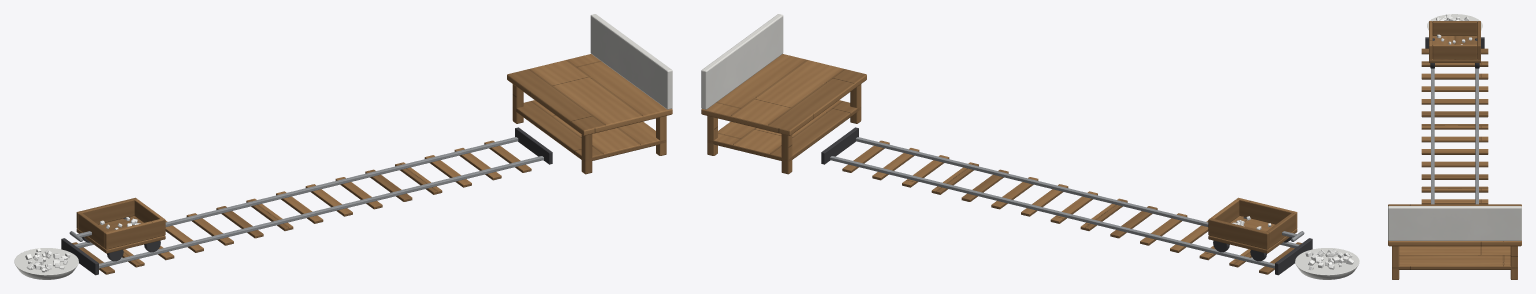
The model's file is station_sugar.fbx.
3 views of the same model, side by side, from view 1: azimuth 30°, elevation 25°; view 2: azimuth 150°, elevation 25°; view 3: azimuth 270°, elevation 25° (orthographic). The views are drawn at different scales.
Visible parts, largest first — view 1: 선반, 레일, 수레, 설탕; view 2: 선반, 레일, 수레, 설탕; view 3: 선반, 레일, 수레, 설탕.
Part boxes in pixels (x1,y1,x2,y2): 선반: [507, 14, 672, 174]; 레일: [61, 127, 552, 275]; 수레: [69, 197, 165, 261]; 설탕: [14, 248, 78, 279]; 선반: [701, 14, 866, 174]; 레일: [821, 127, 1312, 275]; 수레: [1208, 197, 1304, 261]; 설탕: [1295, 248, 1359, 279]; 선반: [1388, 204, 1521, 279]; 레일: [1421, 37, 1488, 204]; 수레: [1429, 21, 1480, 68]; 설탕: [1427, 14, 1482, 29].
Size of the model in its own units: 16553 by 2200 by 3600.
6 materials, 3 textured.
